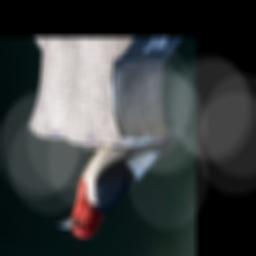Woodpecker: (52, 124, 183, 241)
